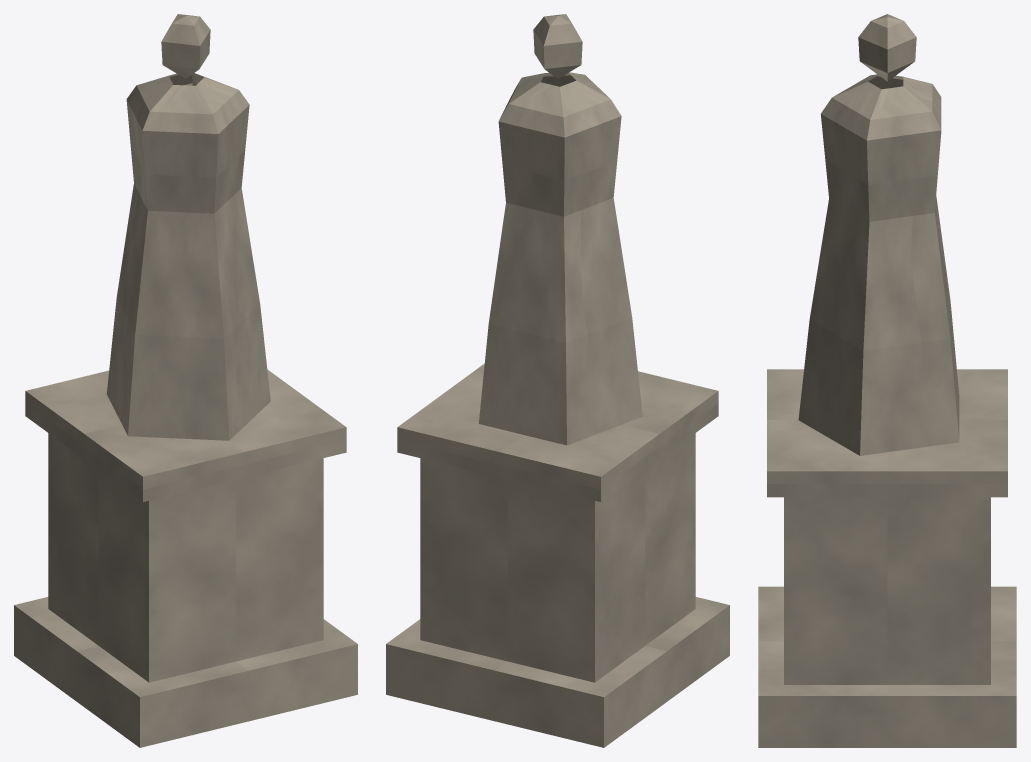
The model's file is Statue_Garden_2_LOD2.gltf.
3 renders of one model, left to right at view 1: azimuth 30°, elevation 25°; view 2: azimuth 150°, elevation 25°; view 3: azimuth 270°, elevation 25°, orthographic. The views are drawn at different scales.
Parts seen in each view (by area): view 1: Statue_Garden_2_LOD2; view 2: Statue_Garden_2_LOD2; view 3: Statue_Garden_2_LOD2.
Boxes of the visible parts, box(x1,y1,x2,y2) form: Statue_Garden_2_LOD2: box(14, 14, 357, 747); Statue_Garden_2_LOD2: box(386, 14, 729, 747); Statue_Garden_2_LOD2: box(758, 14, 1016, 747).
Size of the model in its own units: 0.9 by 2.6 by 0.9.
1 material, 1 textured.
